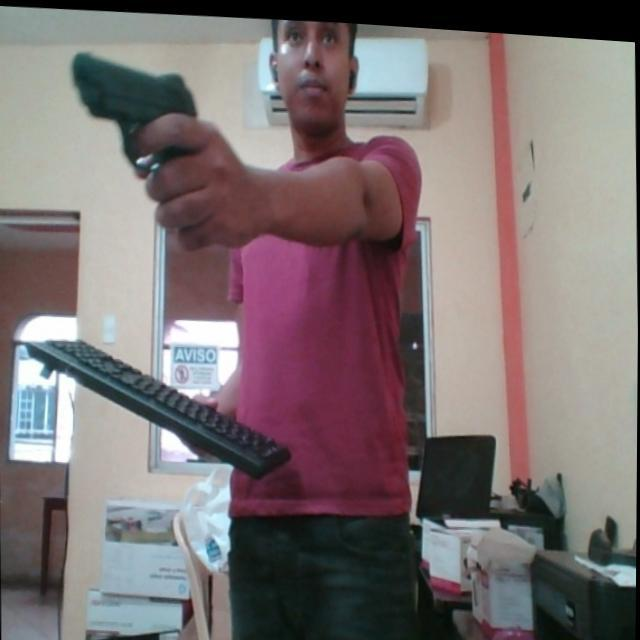weapon: (66, 39, 203, 182)
